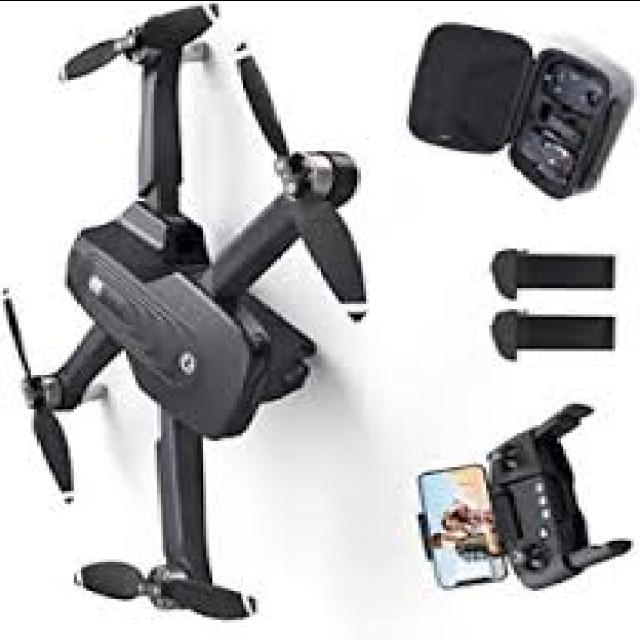drone: (0, 0, 386, 627)
